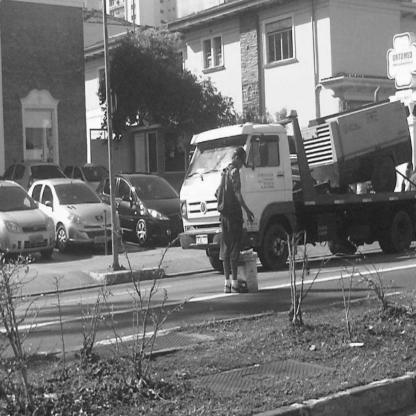car: (32, 169, 121, 257), (1, 171, 59, 269), (115, 169, 185, 245)
truck: (177, 96, 412, 267)
